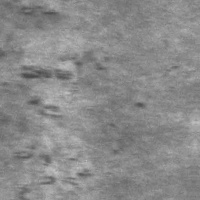rolled-in_scale: (14, 77, 98, 195), (3, 0, 78, 83), (2, 0, 85, 22)
